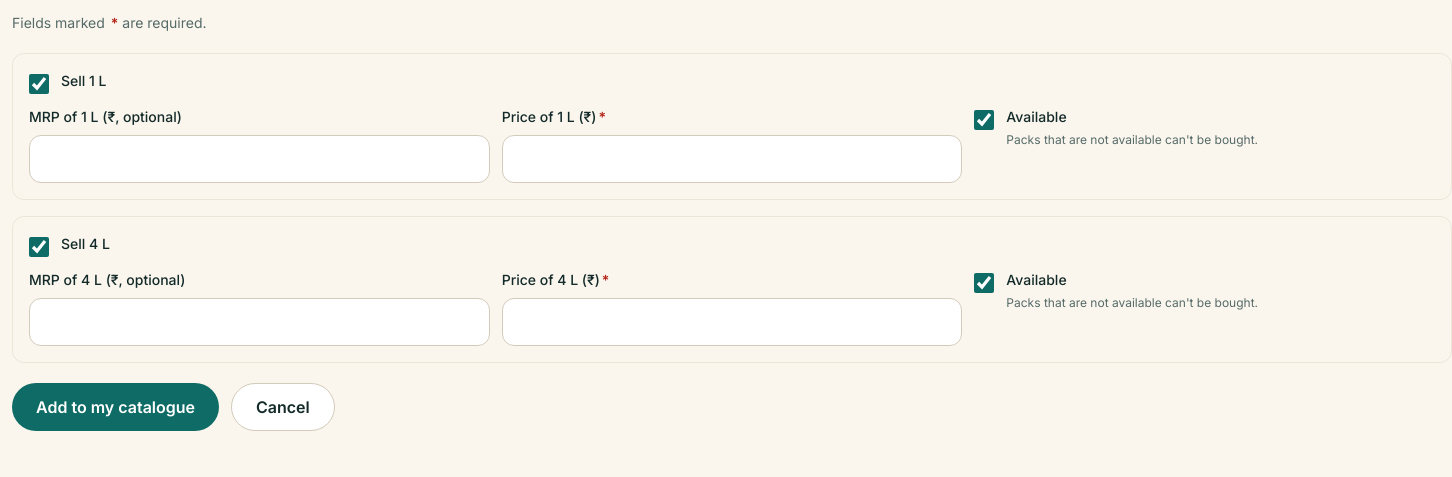
Scenario: CatalogueListingForm › keeps the rows and shows the error next to the price after a failed add
Click the checkbox labelled "Sell 4 L" at {"x": 39, "y": 247}, box top-left (29, 237), bottom-right (49, 257)
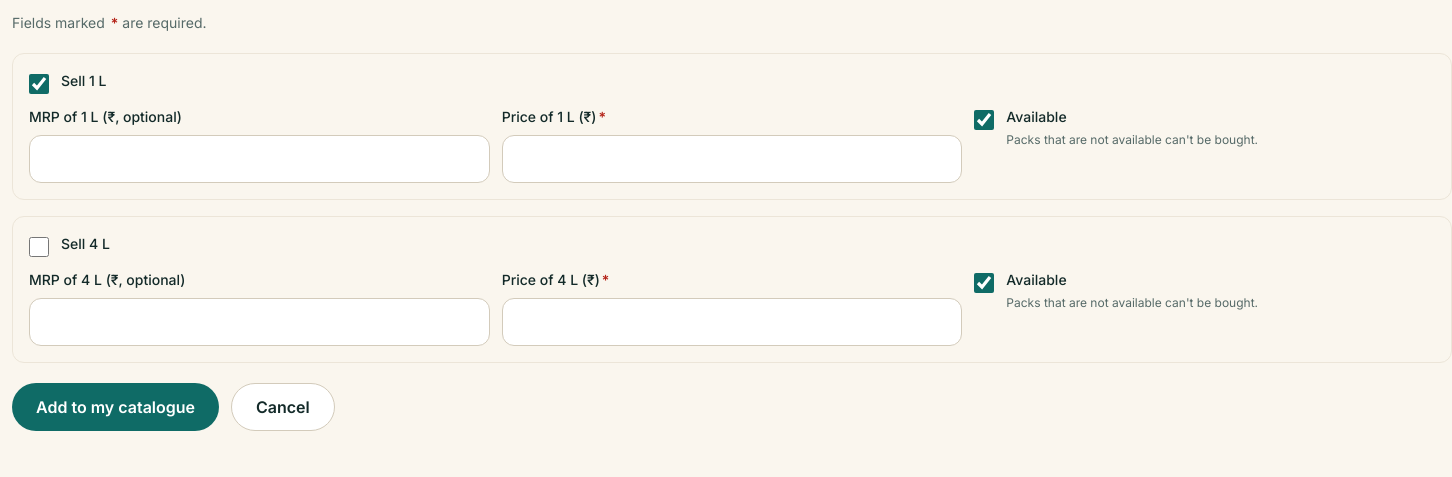
Type "100" into the field labelled "MRP of 1 L (₹, optional)" at {"x": 259, "y": 159}, box top-left (29, 135), bottom-right (490, 183)
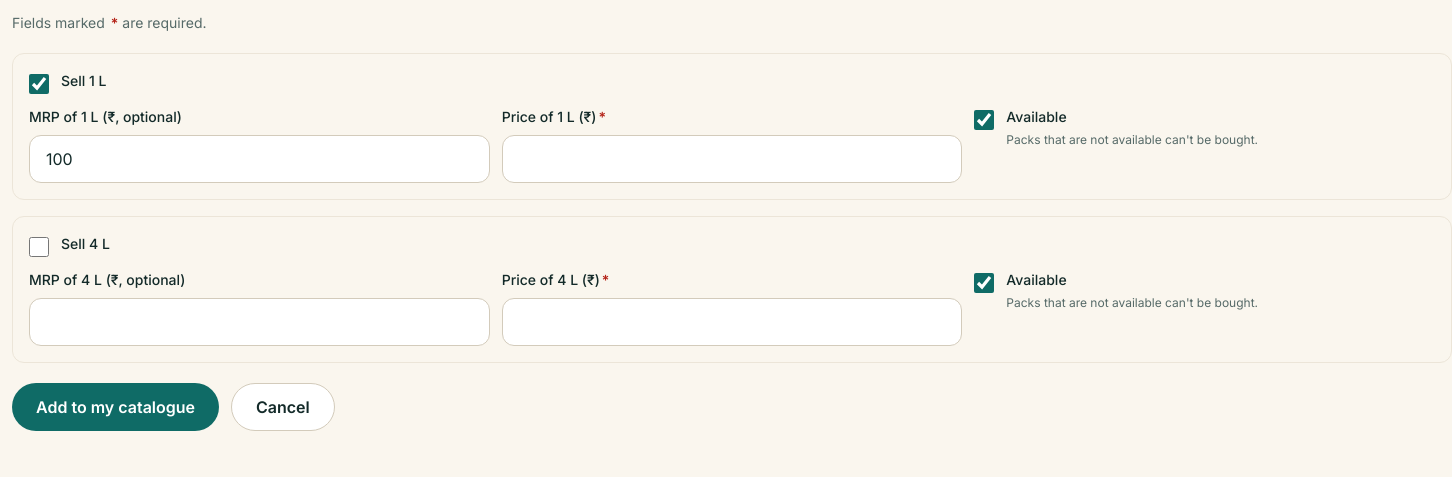
Type "120" into the field labelled "Price of 1 L (₹)" at {"x": 732, "y": 159}, box top-left (502, 135), bottom-right (962, 183)
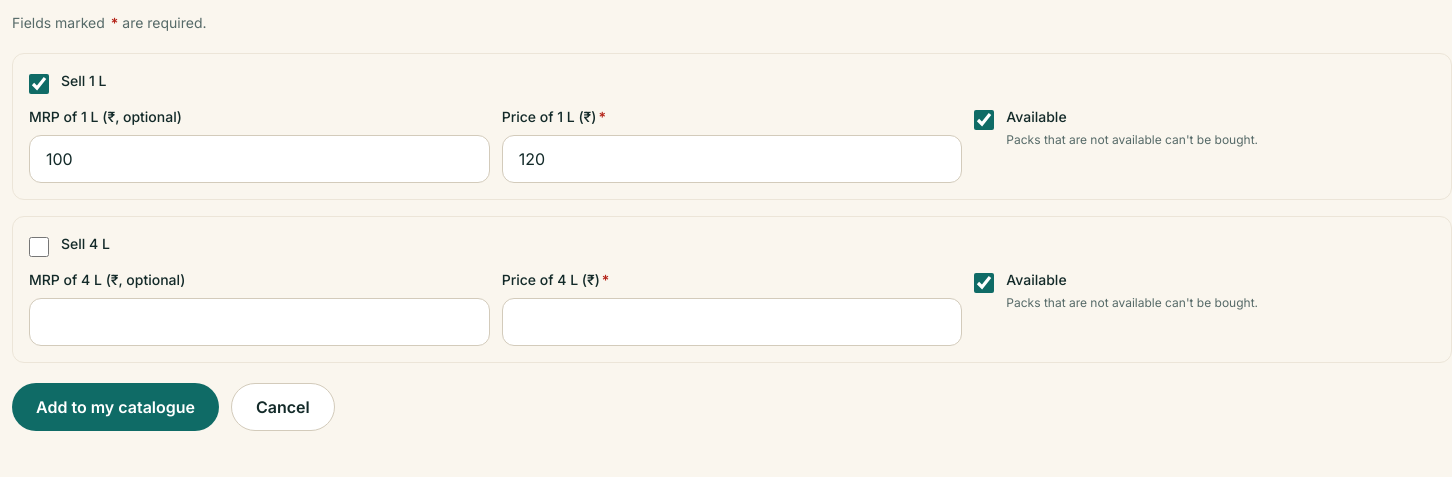
Click the button "Add to my catalogue" at {"x": 116, "y": 407}, box top-left (12, 383), bottom-right (219, 431)
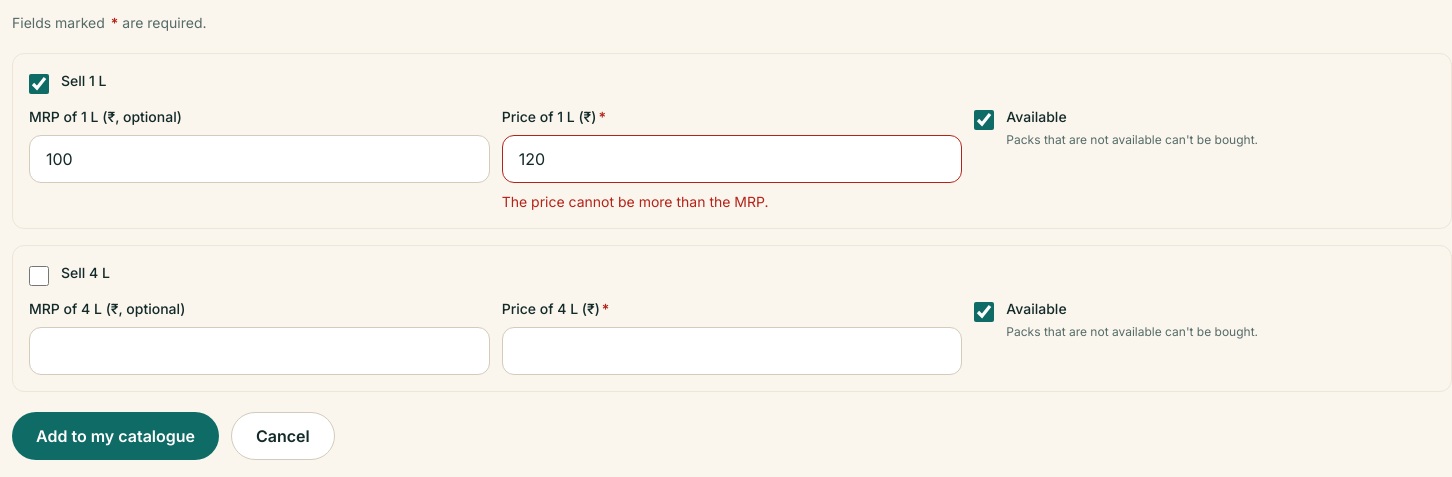
Expected: the checkbox labelled "Sell 4 L" is not checked, top-left (29, 266), bottom-right (49, 286)
Expected: the text "The price cannot be more than the MRP." is shown, top-left (502, 193), bottom-right (769, 210)
